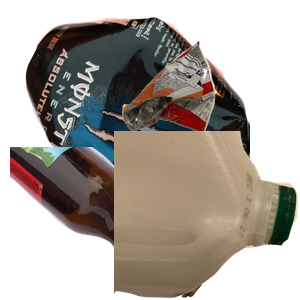glass: (10, 147, 207, 300)
metal: (23, 15, 263, 195)
plastic: (114, 131, 300, 300)
trash: (120, 38, 300, 164)
